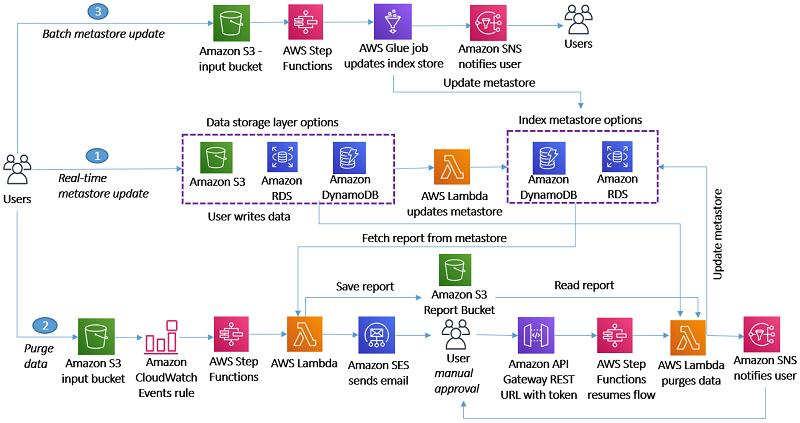API Gateway: (521, 319, 549, 353)
Backend: (372, 3, 413, 42), (288, 317, 324, 352), (435, 151, 470, 183), (674, 322, 701, 353)
Database: (268, 143, 297, 172), (536, 143, 563, 174), (334, 145, 363, 172), (605, 142, 633, 169)
Messaging: (358, 317, 393, 355), (473, 8, 504, 39), (747, 319, 779, 349)
Storage: (79, 321, 112, 354), (441, 256, 469, 287), (219, 6, 245, 39), (202, 144, 230, 173)
Workflow Engine: (596, 316, 632, 355), (216, 318, 246, 352), (292, 5, 320, 39)
